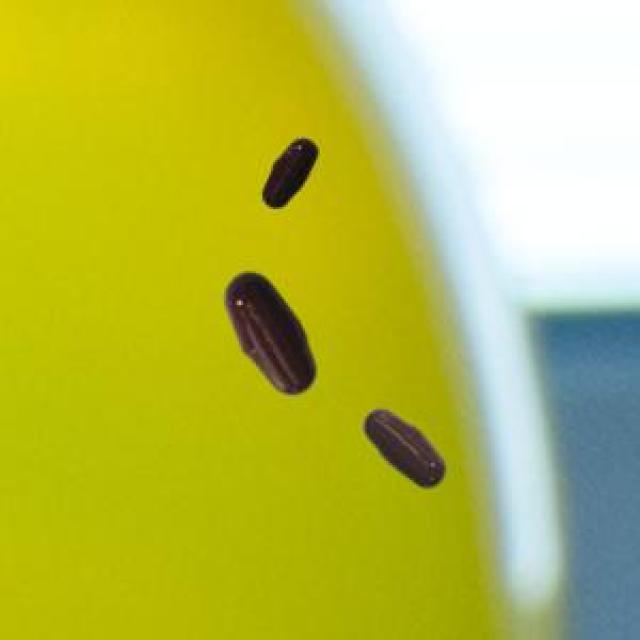DayZinc: (210, 266, 324, 408), (353, 397, 458, 503), (251, 125, 334, 223)
